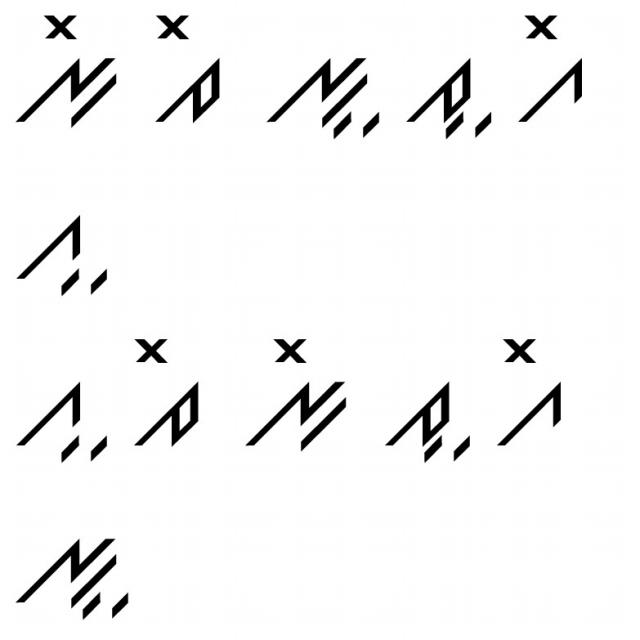gah: (11, 204, 115, 294), (15, 374, 110, 469)
go: (508, 7, 592, 127), (490, 329, 567, 457)
ngah: (253, 45, 389, 146), (10, 521, 133, 625)
ngo: (228, 323, 349, 456), (14, 4, 122, 137)
tah: (378, 370, 475, 465), (403, 56, 494, 143)
to: (146, 7, 232, 136), (127, 335, 202, 451)
